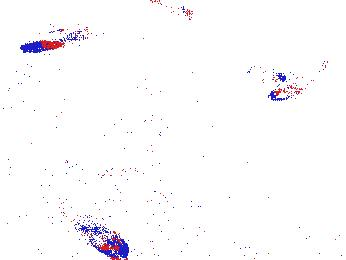X-ray fish: (79, 221, 132, 258)
red belly glassfish: (267, 61, 332, 102), (20, 33, 70, 53)
redtail glassfish: (244, 61, 287, 86)
